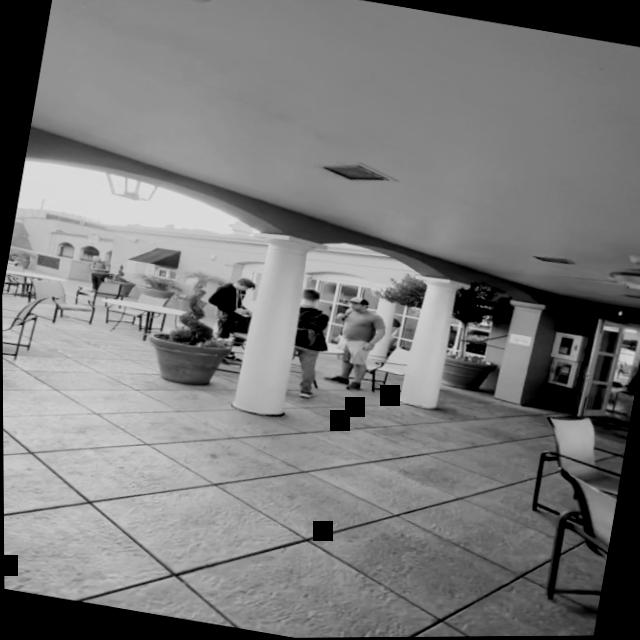NO-Mask: (238, 282, 256, 296), (349, 300, 367, 312)
